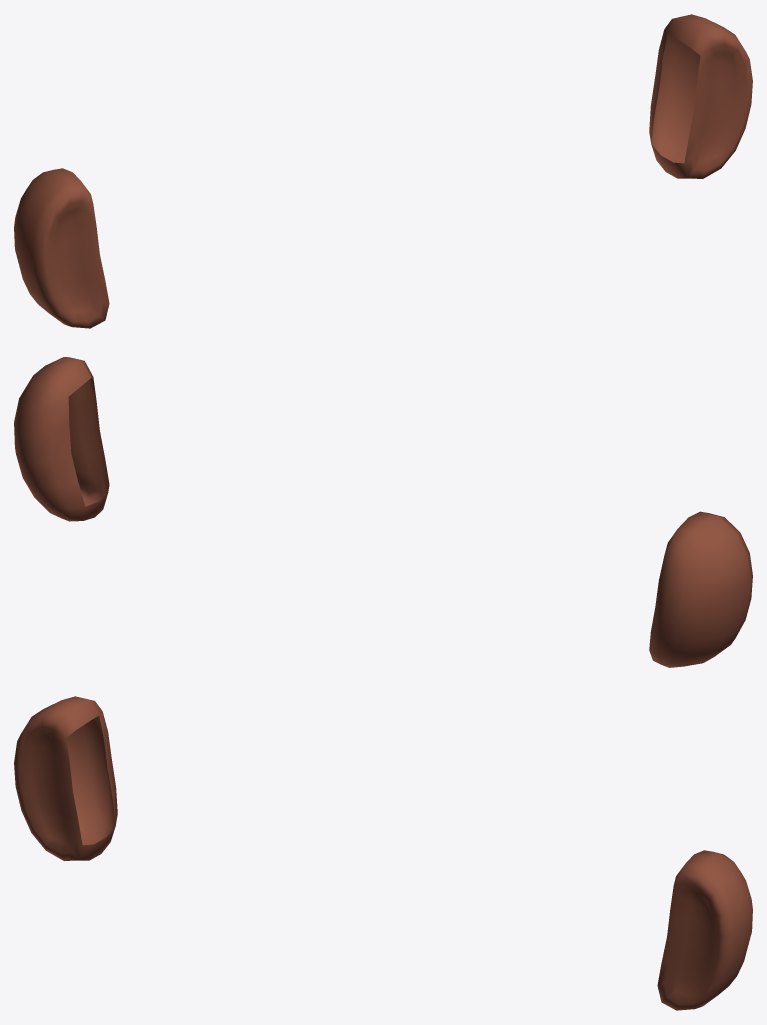
File: Ears_12.glb
The picture shows the model from 3 angles, top to bottom: view 1: azimuth 30°, elevation 25°; view 2: azimuth 150°, elevation 25°; view 3: azimuth 330°, elevation 25°; orthographic projection.
Parts seen in each view (by area): view 1: Ears_12; view 2: Ears_12; view 3: Ears_12.
Part boxes in pixels (x1,y1,x2,y2): Ears_12: (14,14,752,328); Ears_12: (14,357,752,667); Ears_12: (14,696,752,1010).
Size of the model in its own units: 0.6554 by 0.1295 by 0.076.
Materials: 1 (1 with a texture image).
